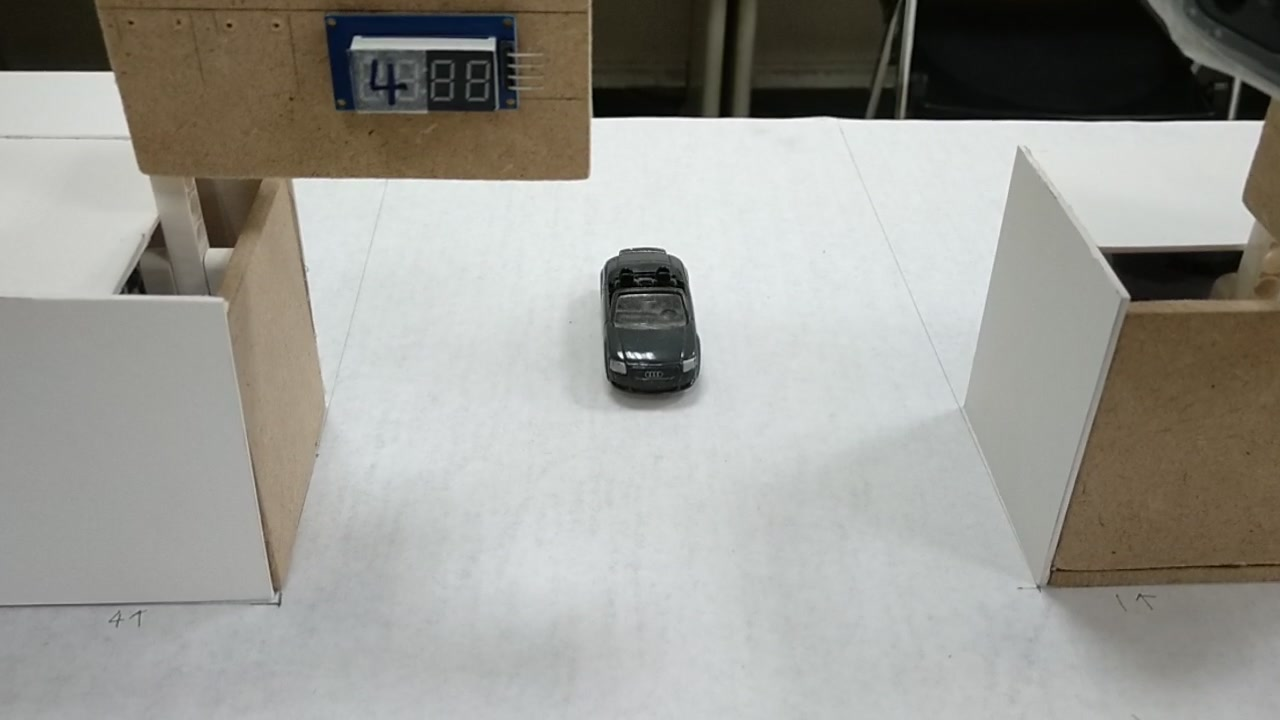car: (599, 253, 702, 392)
